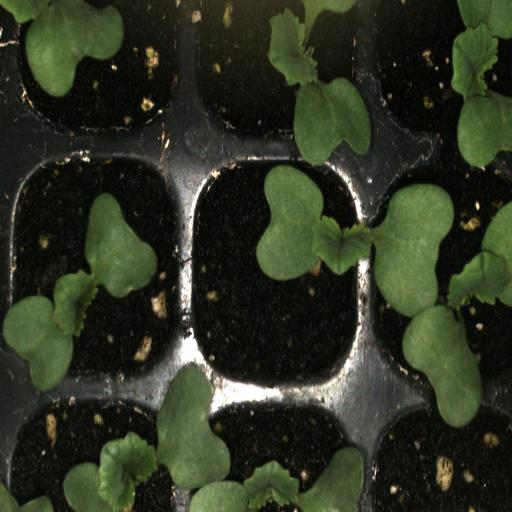seedling: (6, 142, 194, 381), (193, 145, 368, 399), (368, 142, 512, 399), (188, 0, 374, 139), (196, 388, 373, 512), (375, 0, 512, 138)
